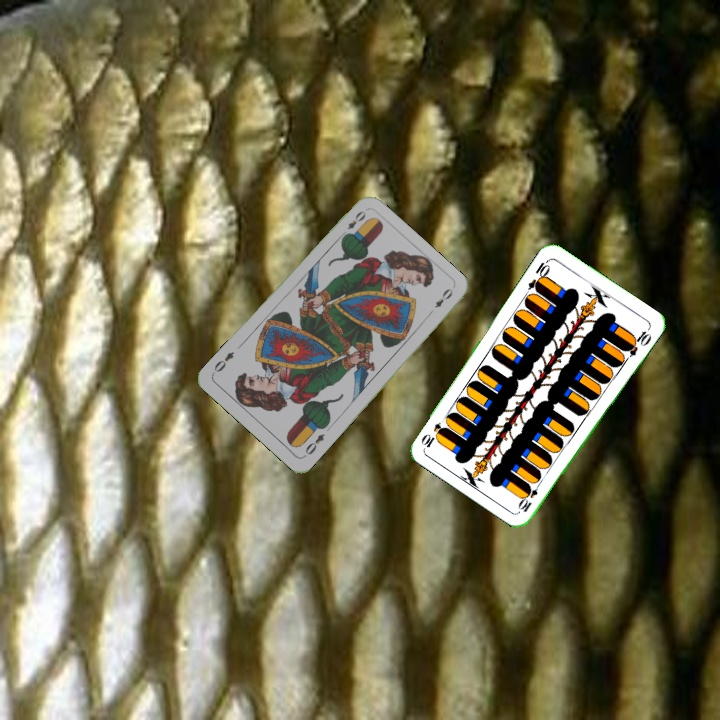E10: (515, 477, 544, 515), (524, 256, 553, 294)
EO: (338, 207, 369, 240), (301, 429, 327, 457)
